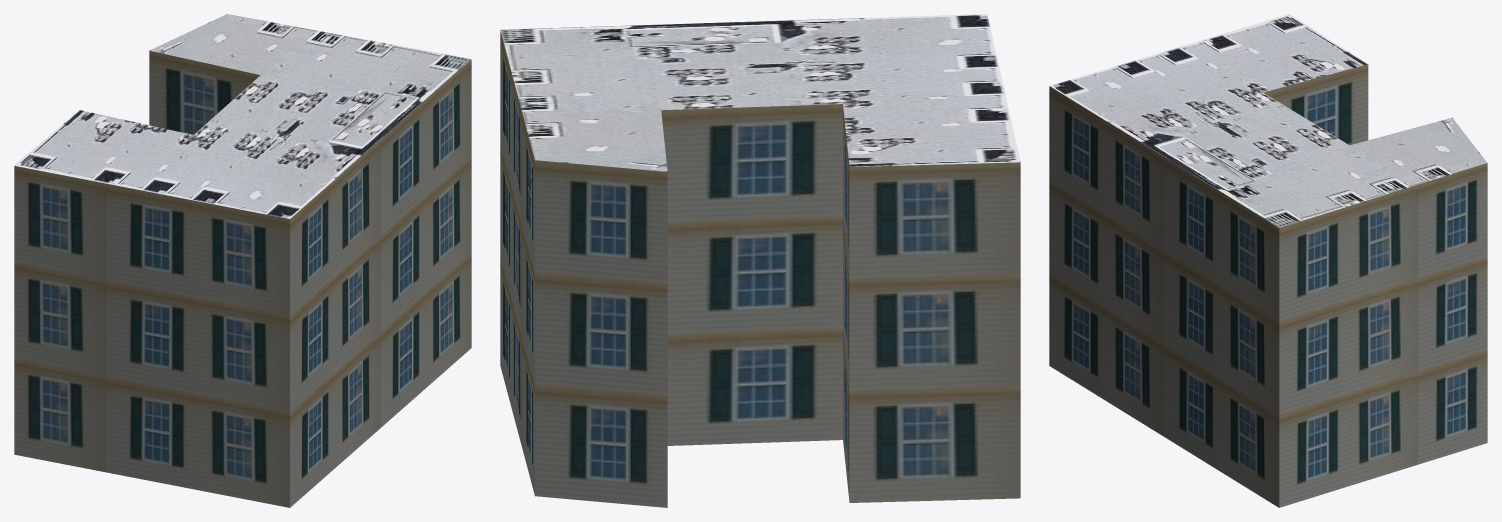
The model's file is ResTex__5154.fbx.
The picture shows the model from 3 angles, left to right: view 1: azimuth 30°, elevation 25°; view 2: azimuth 150°, elevation 25°; view 3: azimuth 270°, elevation 25°; orthographic projection. The views are drawn at different scales.
Parts seen in each view (by area): view 1: CityEngineMaterial_7_m, CityEngineMaterial_2_m; view 2: CityEngineMaterial_7_m, CityEngineMaterial_2_m; view 3: CityEngineMaterial_7_m, CityEngineMaterial_2_m.
Boxes of the visible parts, bbox=[...] form: CityEngineMaterial_7_m: bbox=[14, 50, 471, 507]; CityEngineMaterial_2_m: bbox=[14, 14, 471, 218]; CityEngineMaterial_7_m: bbox=[500, 30, 1020, 507]; CityEngineMaterial_2_m: bbox=[500, 14, 1020, 171]; CityEngineMaterial_7_m: bbox=[1049, 64, 1487, 507]; CityEngineMaterial_2_m: bbox=[1050, 14, 1486, 227].
Bounding box in the file's own units: 14.75 × 9 × 12.76.
2 materials, 2 textured.
